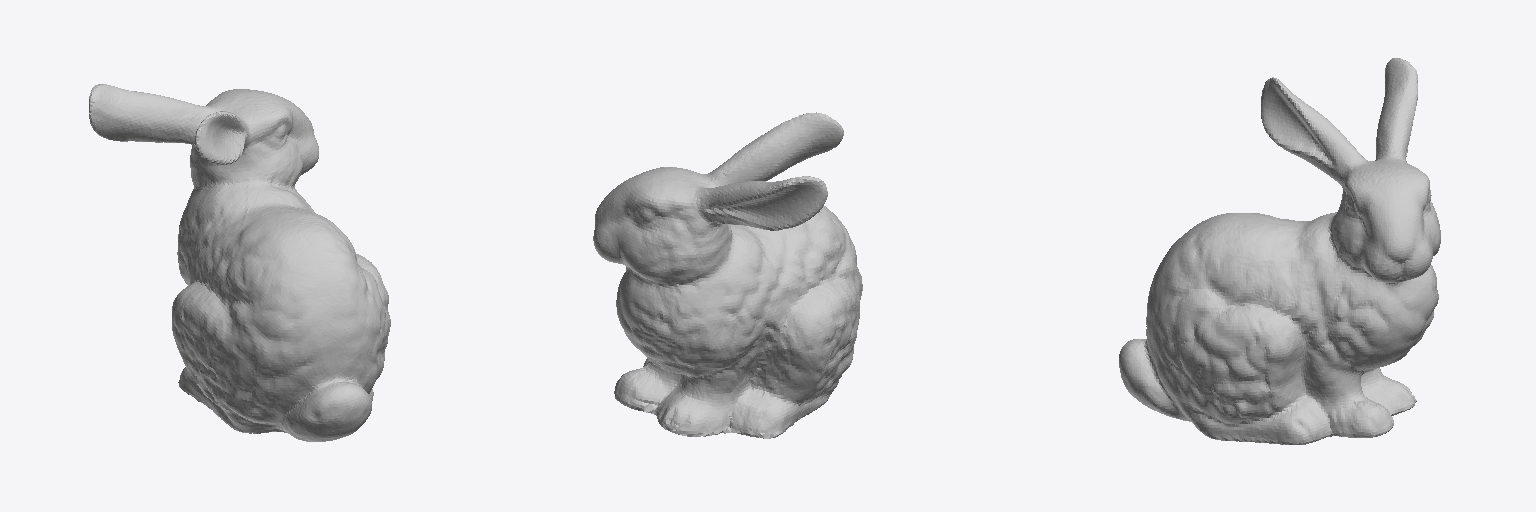
File: bunny_mirror.obj
3 renders of one model, left to right at view 1: azimuth 30°, elevation 25°; view 2: azimuth 150°, elevation 25°; view 3: azimuth 270°, elevation 25°, orthographic.
Visible parts, largest first — view 1: bunny; view 2: bunny; view 3: bunny.
Boxes of the visible parts, <box> form: bunny: <box>89,84,390,441</box>; bunny: <box>593,112,862,438</box>; bunny: <box>1119,58,1440,444</box>.
Bounding box in the file's own units: 1.7 × 2.21 × 2.1.